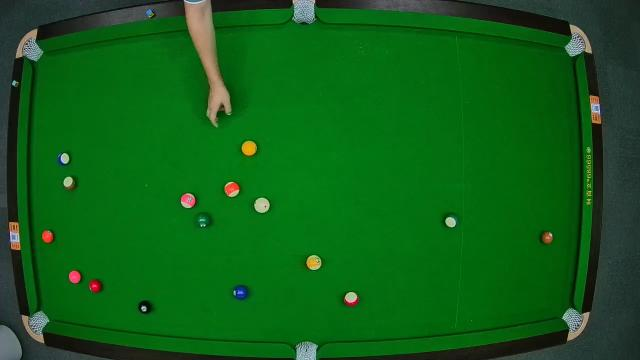bag1: (18, 39, 42, 61)
bag2: (293, 1, 317, 26)
bag3: (566, 34, 588, 57)
bag4: (28, 310, 48, 334)
bag5: (295, 340, 319, 360)
bag6: (563, 308, 583, 332)
ball0: (253, 196, 270, 214)
ball1: (242, 140, 258, 156)
ball10: (56, 152, 70, 164)
ball11: (344, 290, 360, 306)
ball12: (180, 193, 197, 209)
ball13: (224, 182, 240, 198)
ball14: (444, 212, 460, 229)
ball15: (63, 176, 77, 188)
ball2: (234, 284, 248, 300)
ball3: (88, 278, 102, 294)
ball4: (68, 270, 82, 284)
ball5: (41, 229, 54, 243)
ball6: (195, 211, 212, 229)
ball7: (540, 230, 554, 246)
ball8: (138, 298, 154, 314)
ball9: (306, 254, 322, 272)
